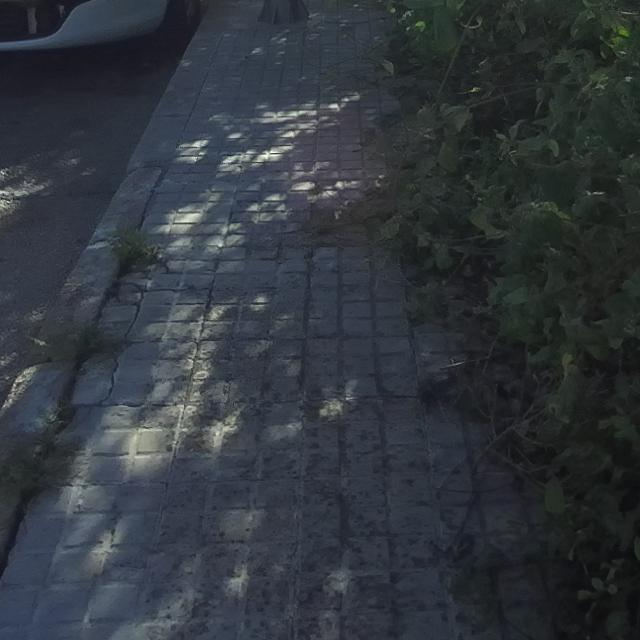calcada_quebrada: (92, 343, 125, 406), (119, 279, 147, 337)
